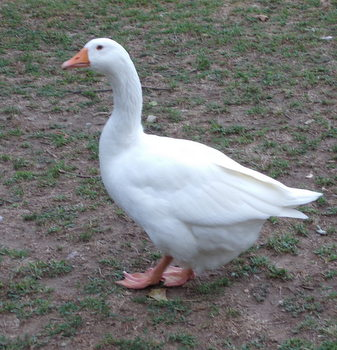goose: (55, 30, 328, 295)
